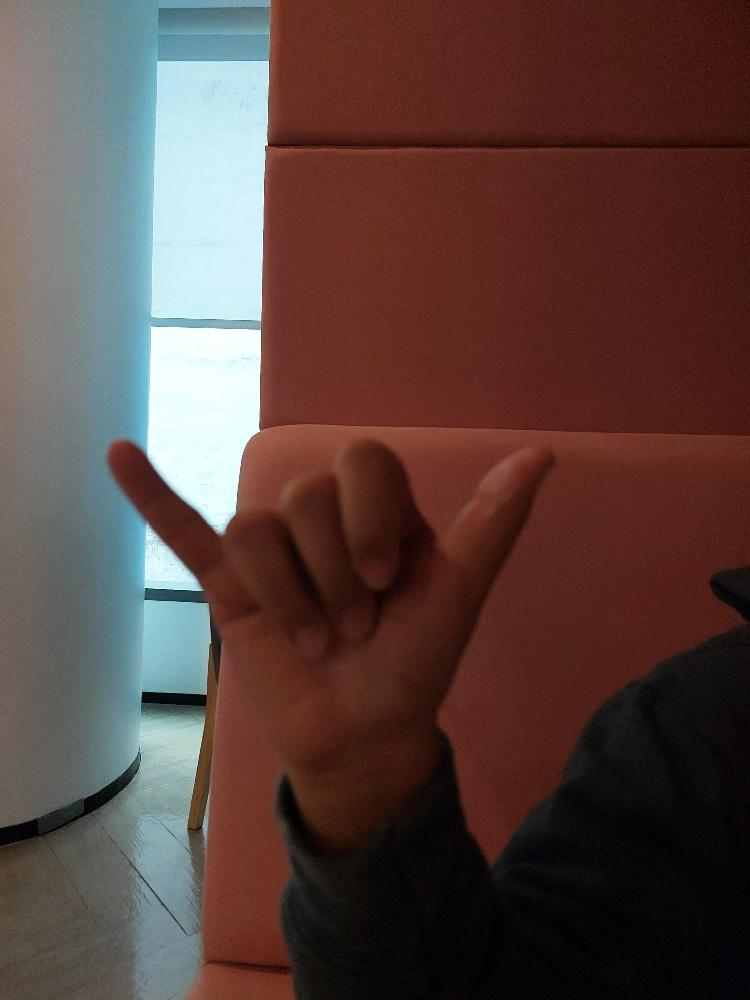y: (102, 425, 561, 770)
